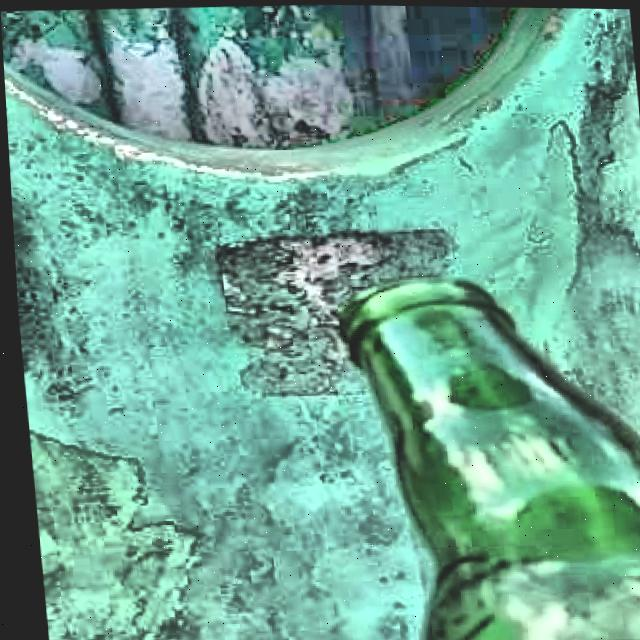glass: (338, 279, 640, 640)
